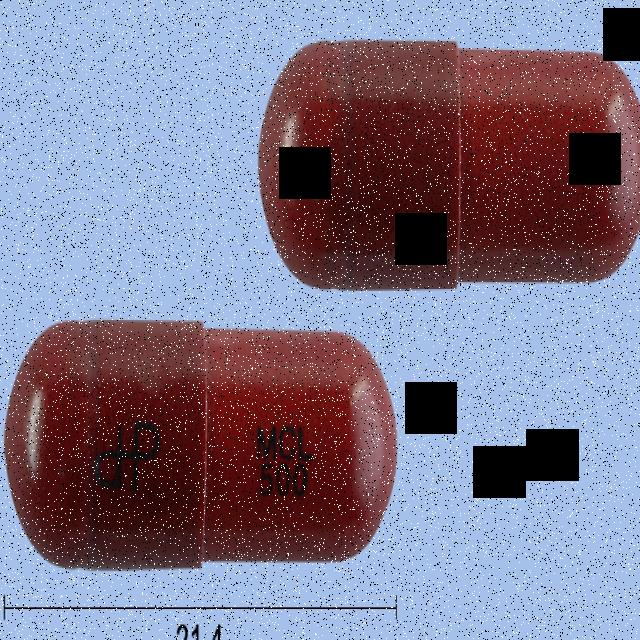Cephamethyl Cap: (1, 308, 402, 573)
